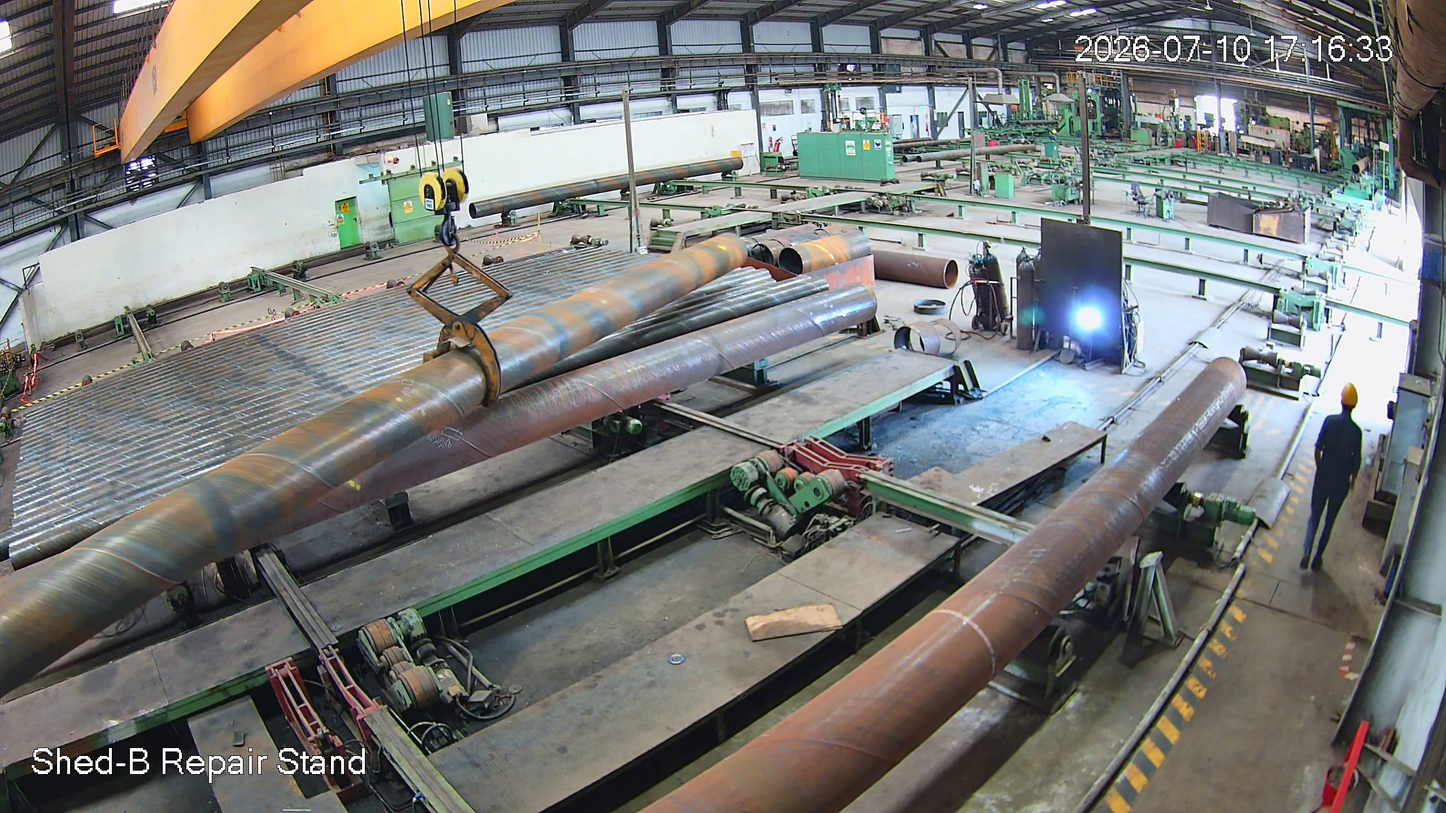Helmet: (1336, 380, 1368, 428)
Person: (1294, 386, 1374, 573)
